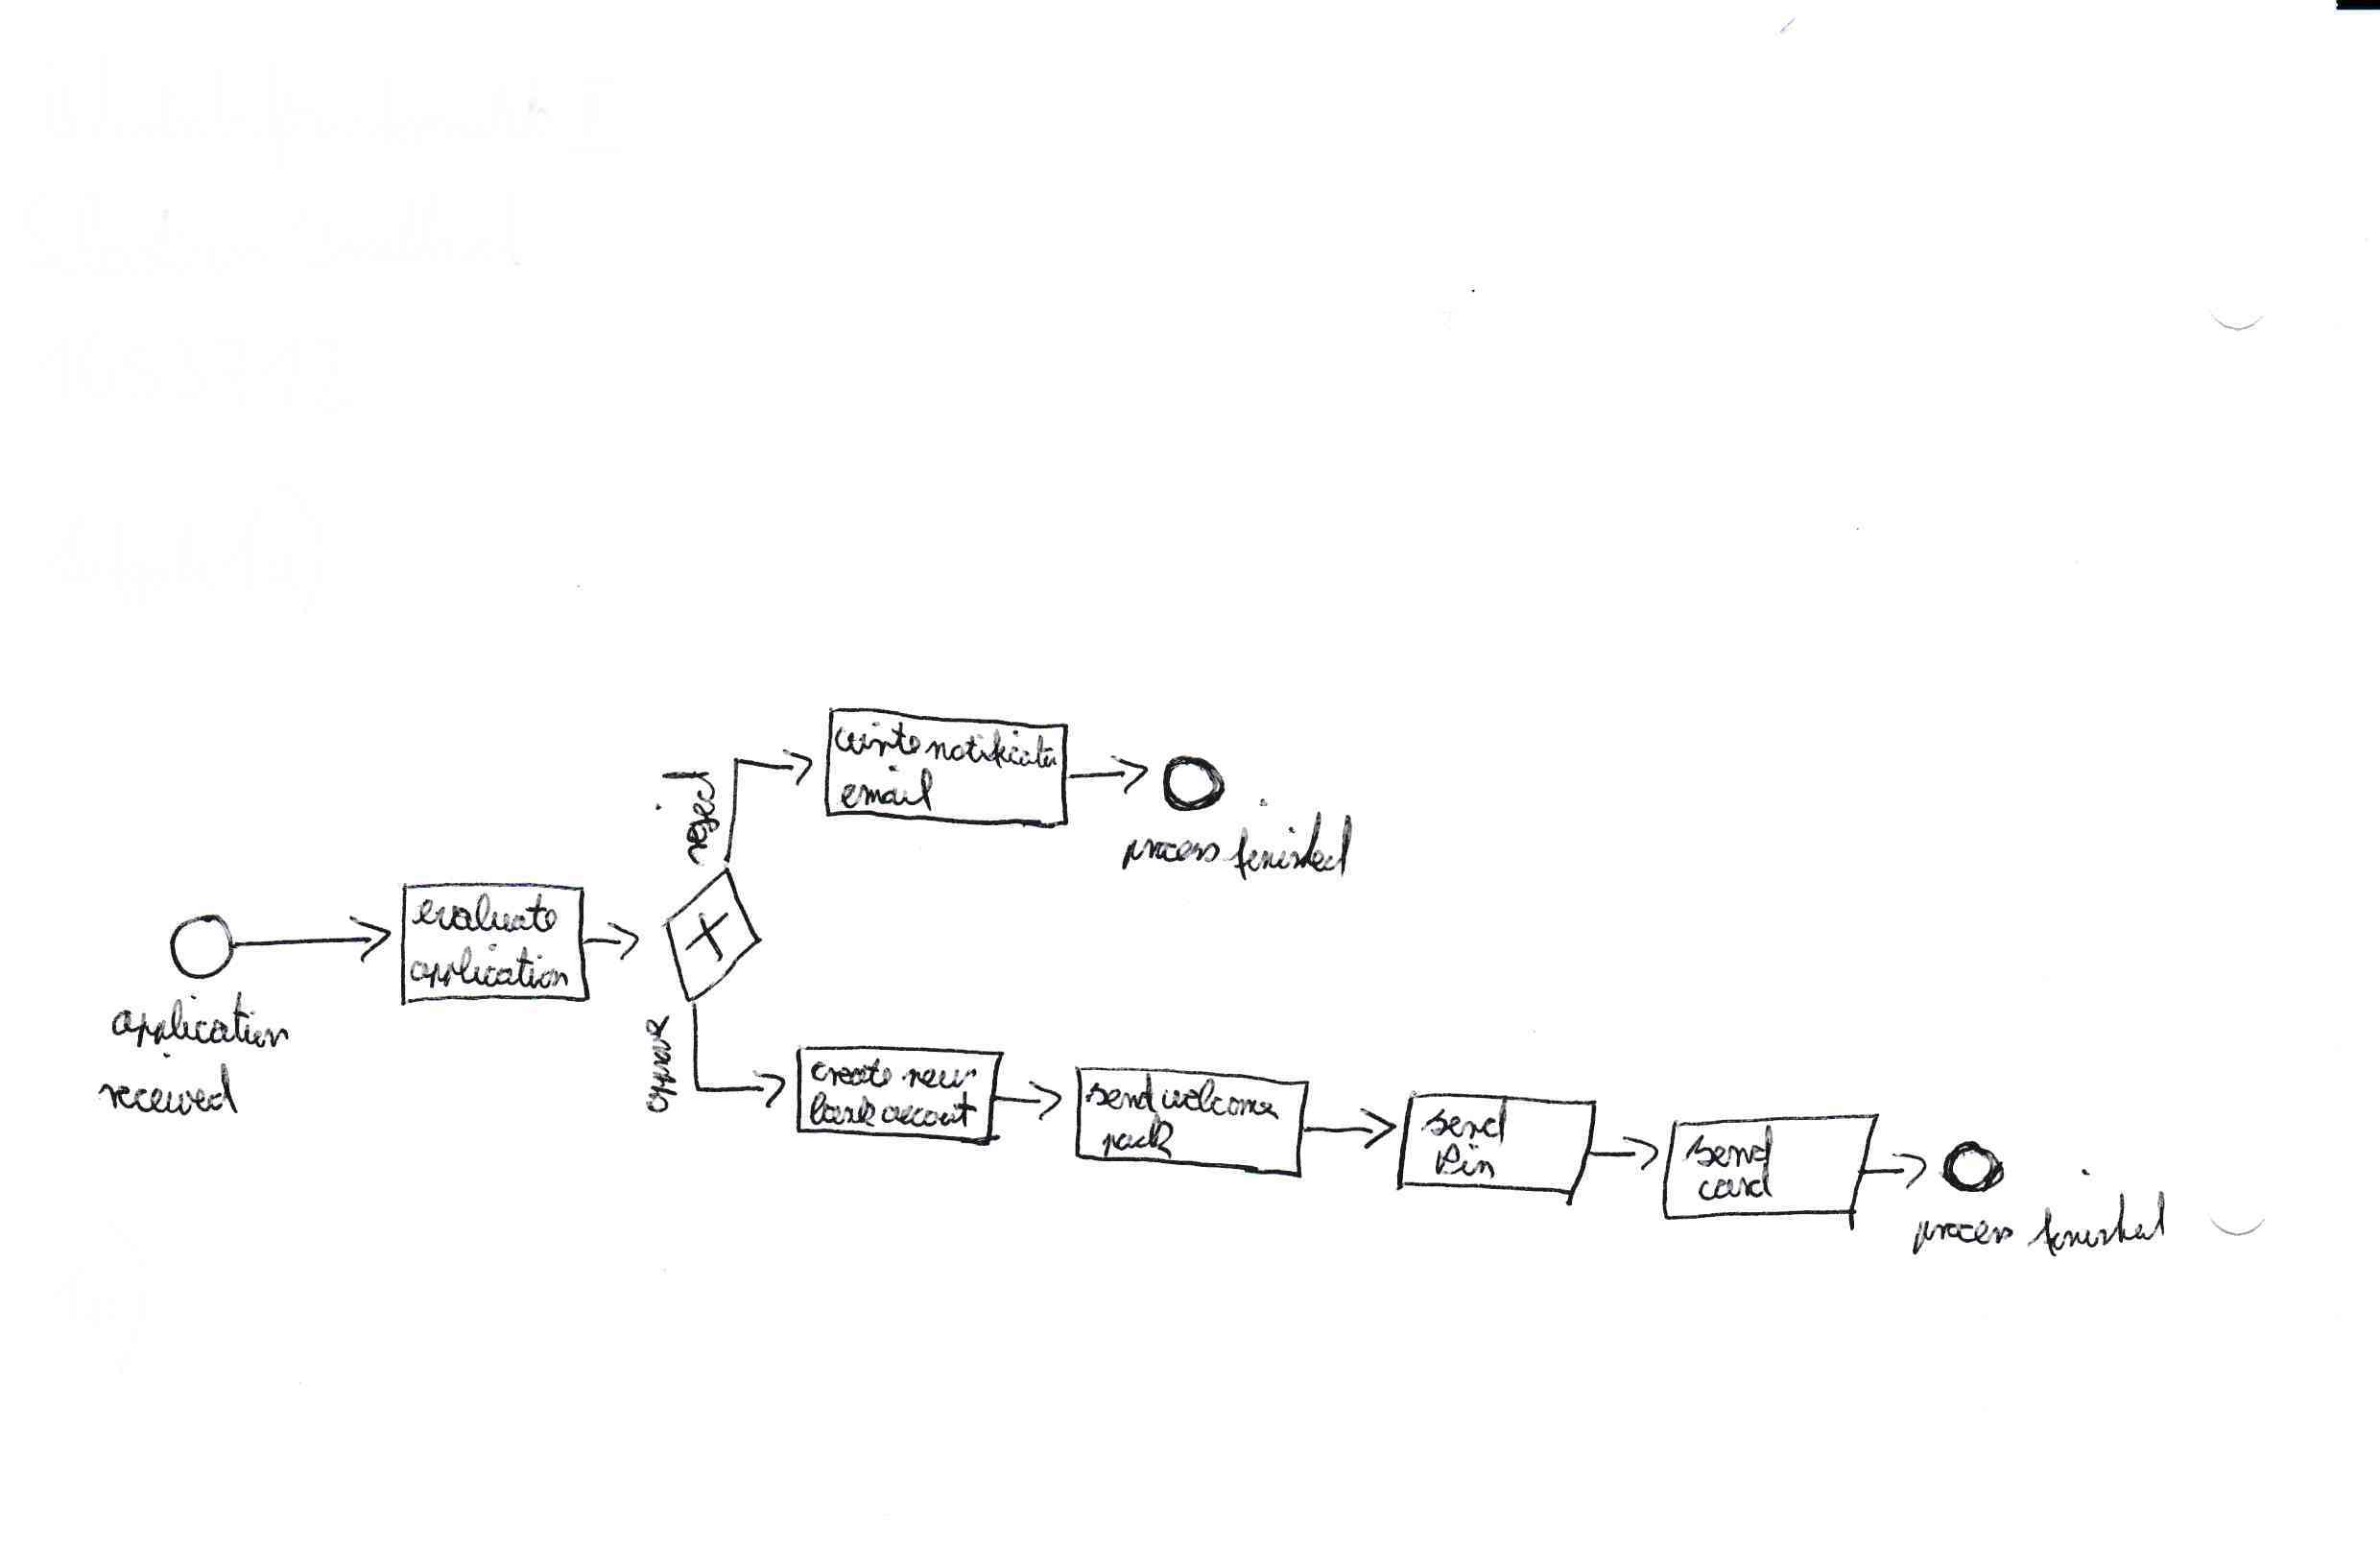Pin: (1429, 1145, 1495, 1183)
account: (878, 1093, 978, 1129)
application: (104, 992, 304, 1054), (408, 938, 571, 995)
approve: (637, 1006, 682, 1112)
bank: (805, 1093, 878, 1131)
card: (1695, 1167, 1776, 1204)
create: (807, 1056, 900, 1093)
email: (834, 763, 938, 815)
evaluate: (411, 895, 562, 938)
finished: (2030, 1169, 2172, 1257), (1226, 815, 1355, 881)
new: (904, 1060, 978, 1094)
notification: (928, 725, 1062, 777)
pack: (1088, 1113, 1178, 1164)
process: (1115, 831, 1221, 879), (1905, 1217, 2016, 1259)
received: (95, 1051, 252, 1120)
reject: (651, 763, 722, 862)
send: (1419, 1094, 1516, 1146), (1683, 1126, 1778, 1172), (1086, 1074, 1157, 1117)
welcome: (1161, 1074, 1285, 1126)
write: (834, 721, 926, 765)
